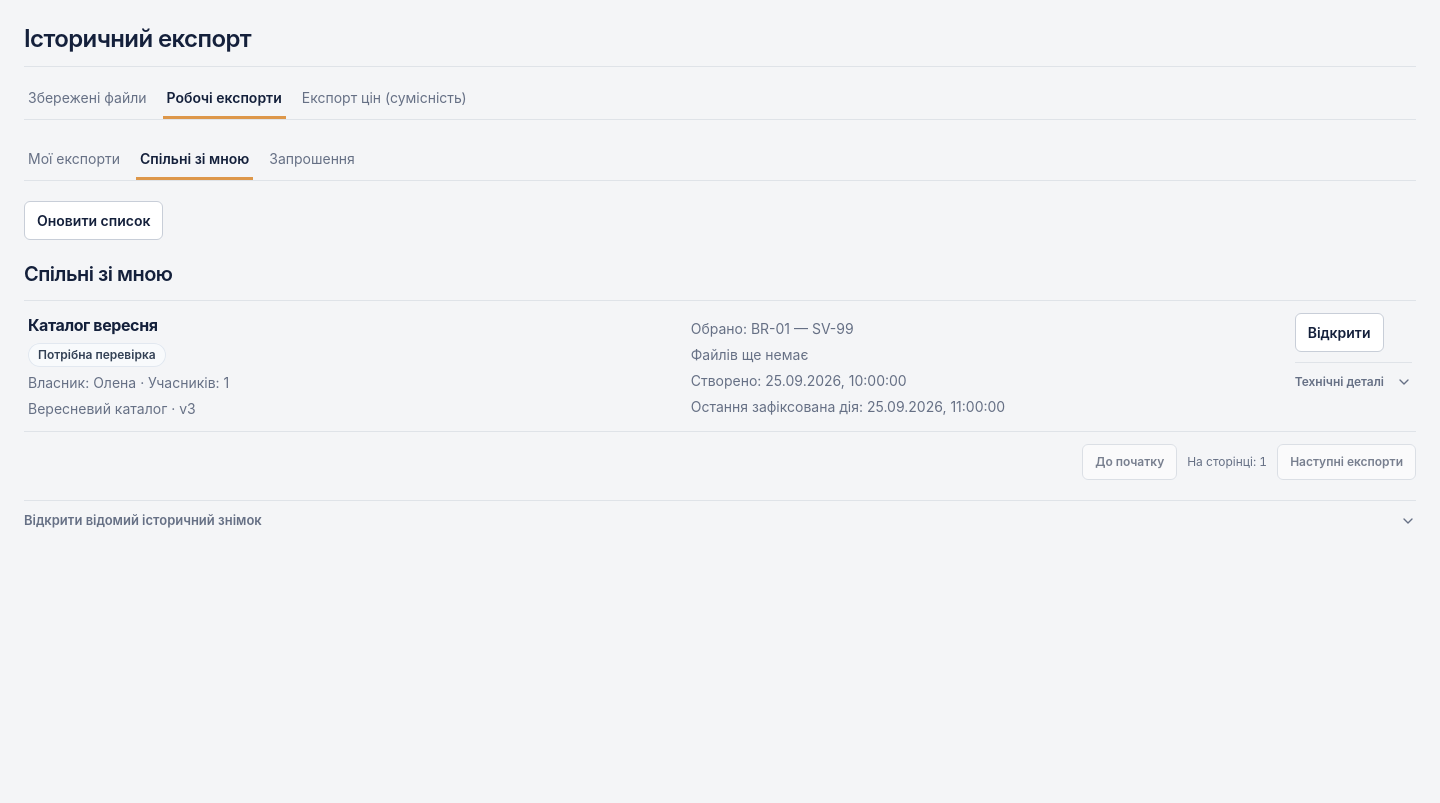
UX4 view-only member reads stored result, has no create/confirm/invite and leaves only after confirmation
Click the link with aria-label "Відкрити / продовжити Каталог вересня". click: (1339, 332)
box: [1295, 313, 1384, 352]
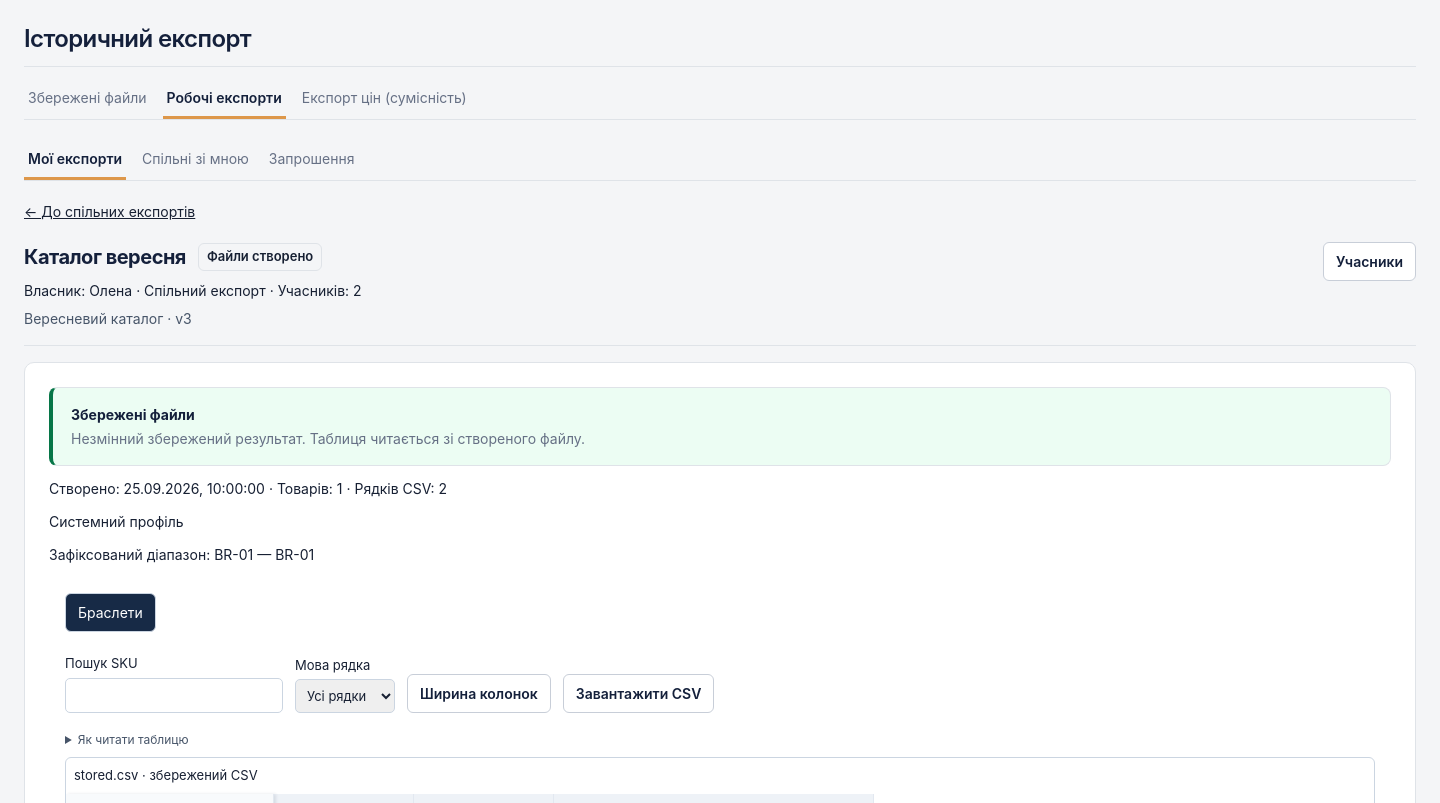
Expected: the heading "Каталог вересня" is shown, [24, 242, 186, 272]
Expected: the button "Завантажити CSV" is shown, [563, 674, 714, 713]
Click the button "Учасники". click: (1370, 262)
box: [1323, 242, 1416, 281]
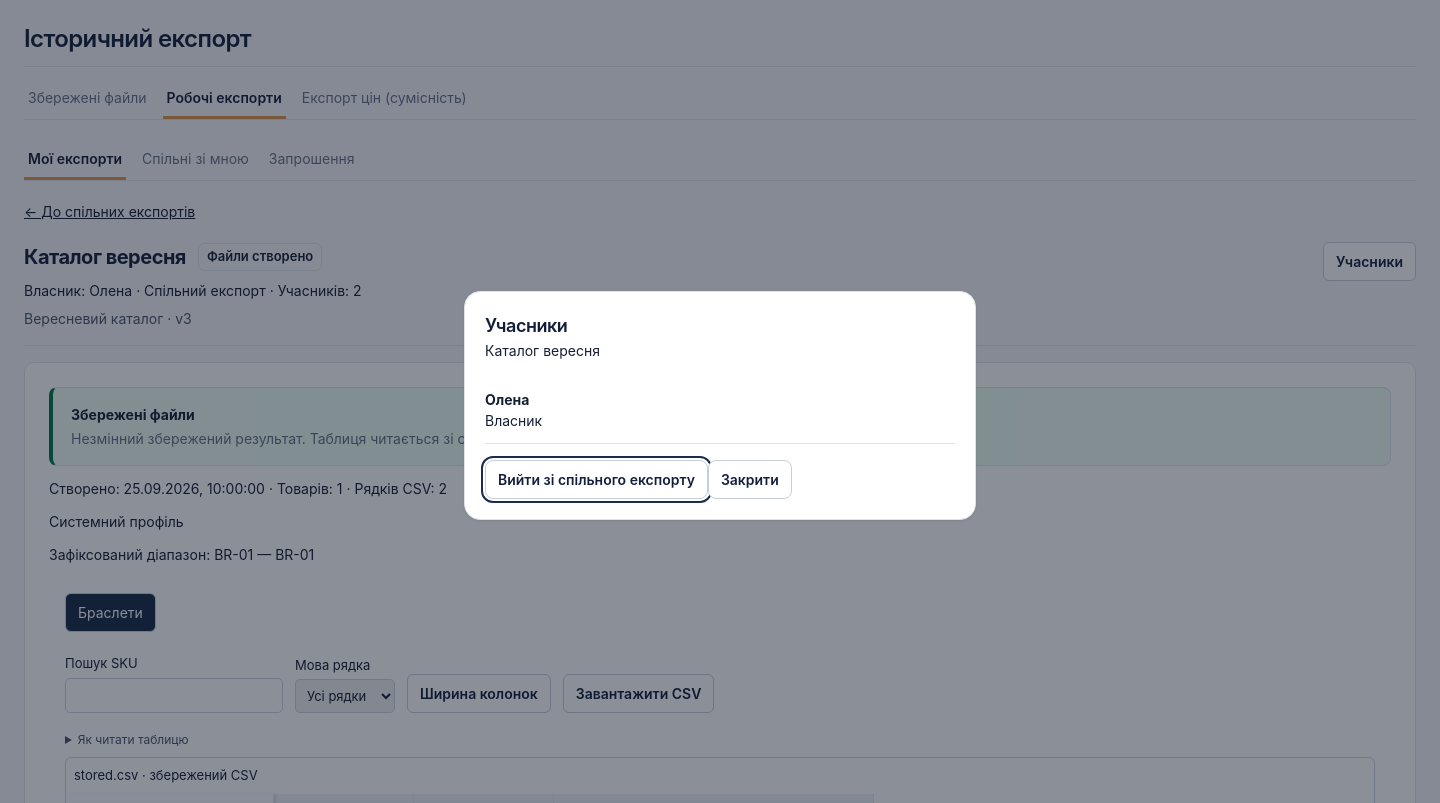
Click the button "Вийти зі спільного експорту". click: (596, 479)
box: [485, 460, 708, 498]
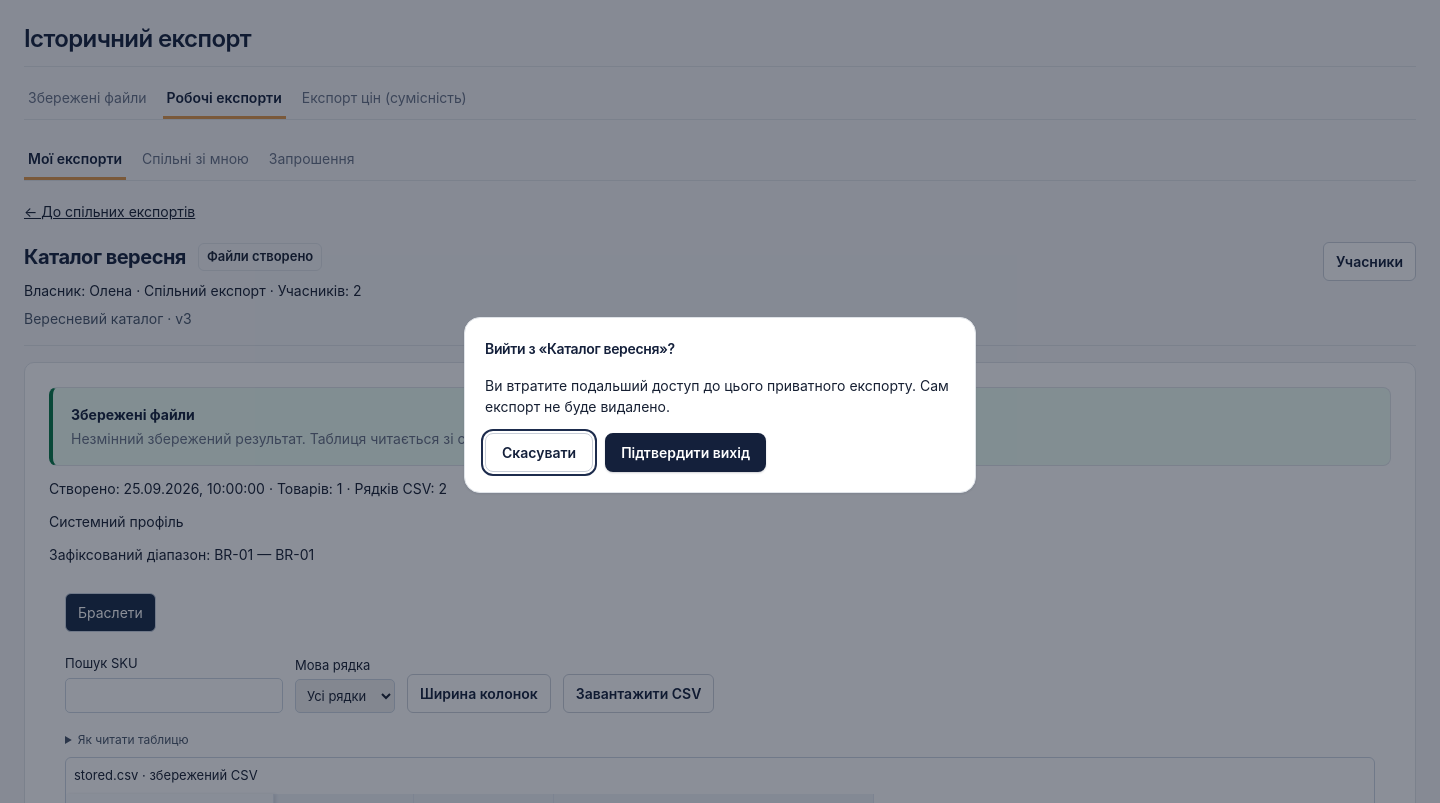
Expected: the dialog shows "Сам експорт не буде видалено", [485, 377, 949, 415]
Click the button "Підтвердити вихід". click: (686, 452)
box: [605, 433, 766, 472]
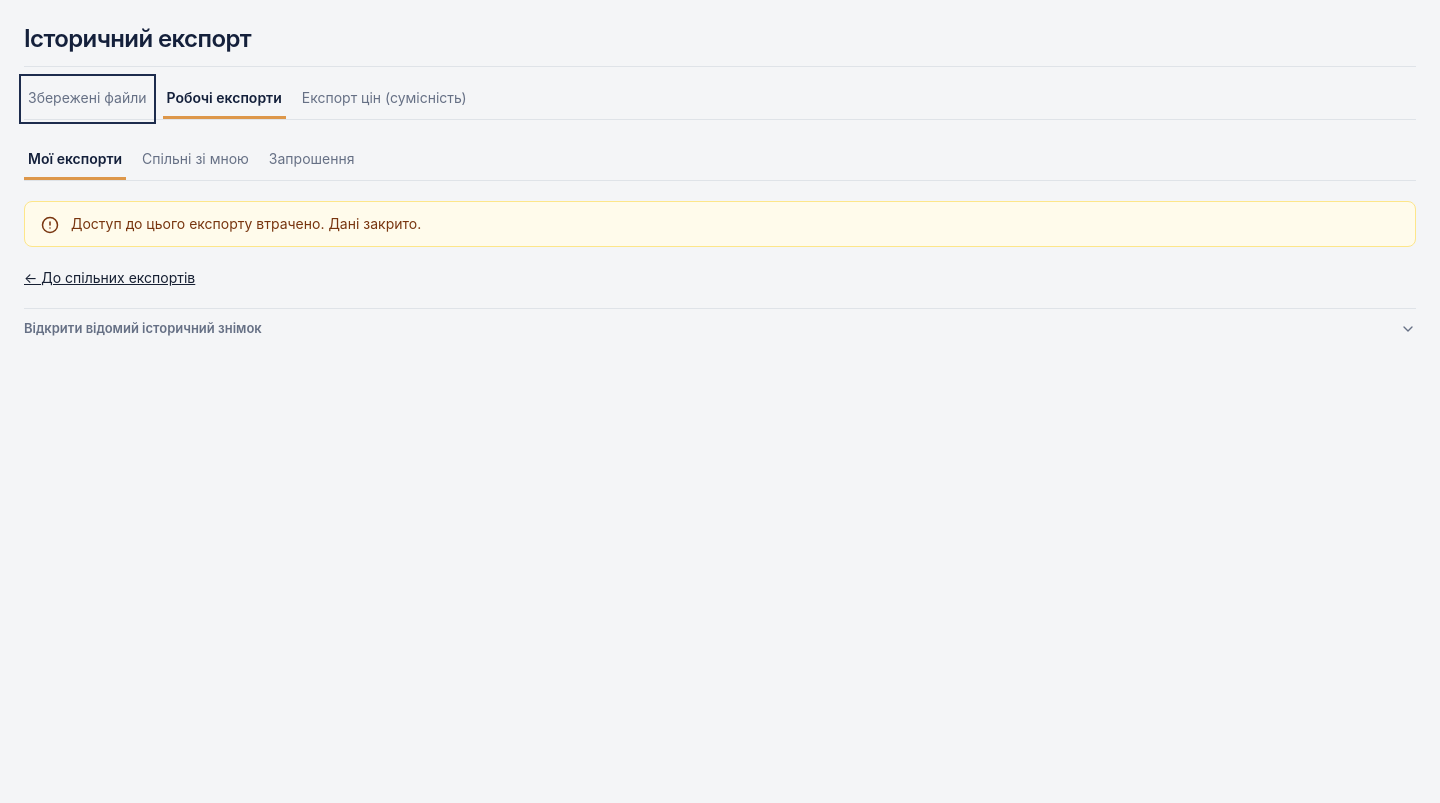
Expected: the text "Доступ до цього експорту втрачено. Дані закрито." is shown, [71, 215, 421, 232]
